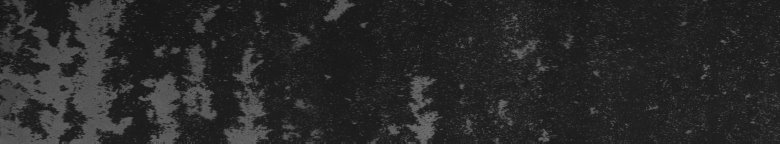kb: (4, 4, 116, 136)
